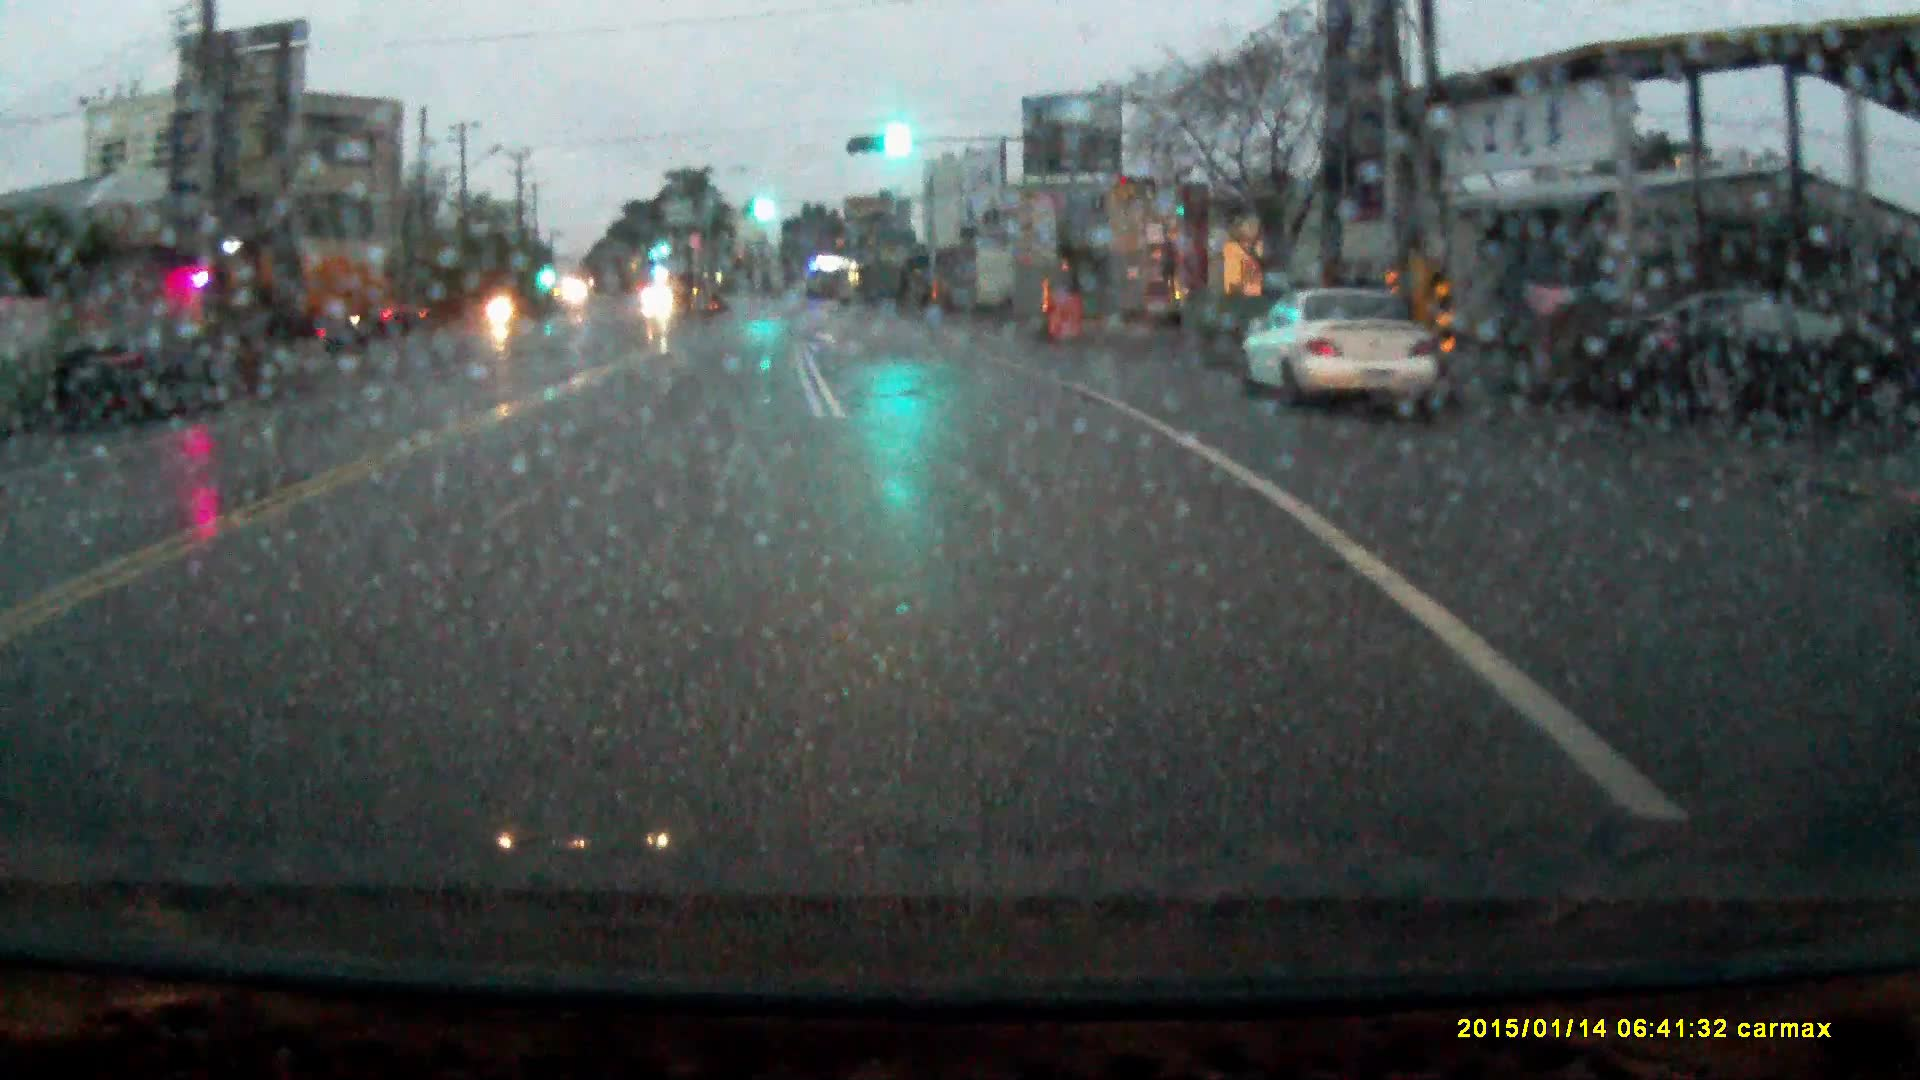rider: (481, 278, 515, 332)
vehicle: (1236, 289, 1441, 411), (241, 232, 425, 338), (53, 322, 234, 427), (643, 286, 673, 311)
